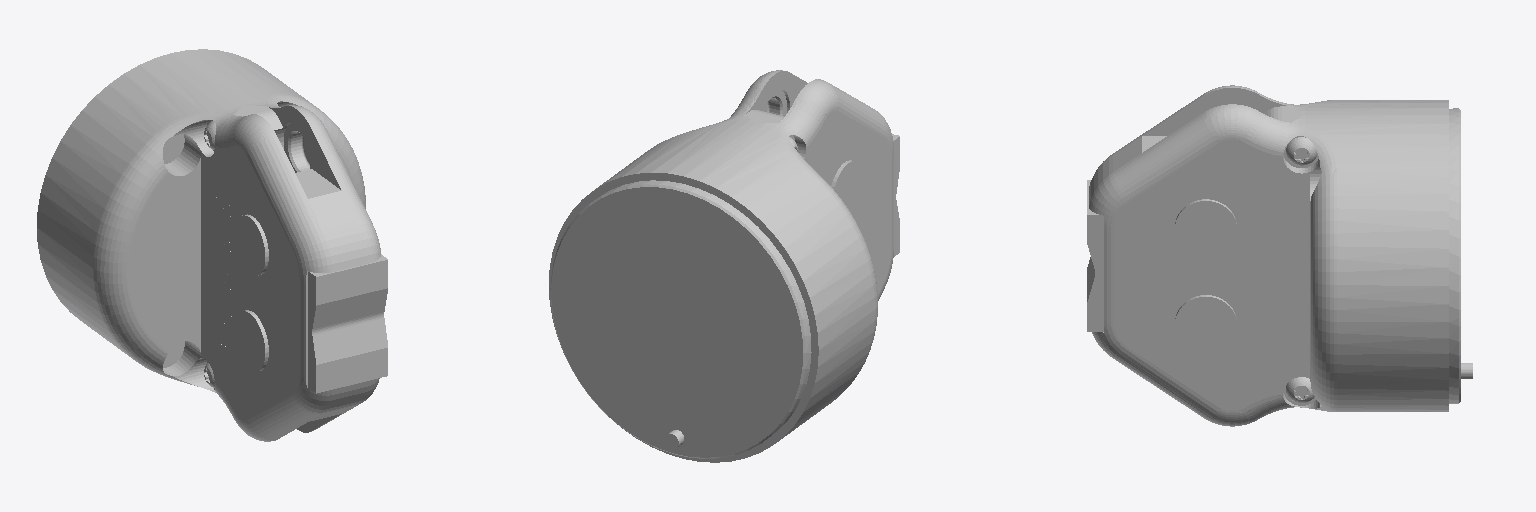
The model's file is robotiq_arg2f_base_link_vis.obj.
3 views of the same model, side by side, from view 1: azimuth 30°, elevation 25°; view 2: azimuth 150°, elevation 25°; view 3: azimuth 270°, elevation 25° (orthographic).
Visible parts, largest first — view 1: Robotiq_Arg2F_Base_Link_Vis; view 2: Robotiq_Arg2F_Base_Link_Vis; view 3: Robotiq_Arg2F_Base_Link_Vis.
Part boxes in pixels (x1,y1,x2,y2): Robotiq_Arg2F_Base_Link_Vis: (37, 49, 387, 441); Robotiq_Arg2F_Base_Link_Vis: (549, 70, 899, 462); Robotiq_Arg2F_Base_Link_Vis: (1087, 85, 1472, 426).
Bounding box in the file's own units: 0.075 × 0.0849 × 0.0927.